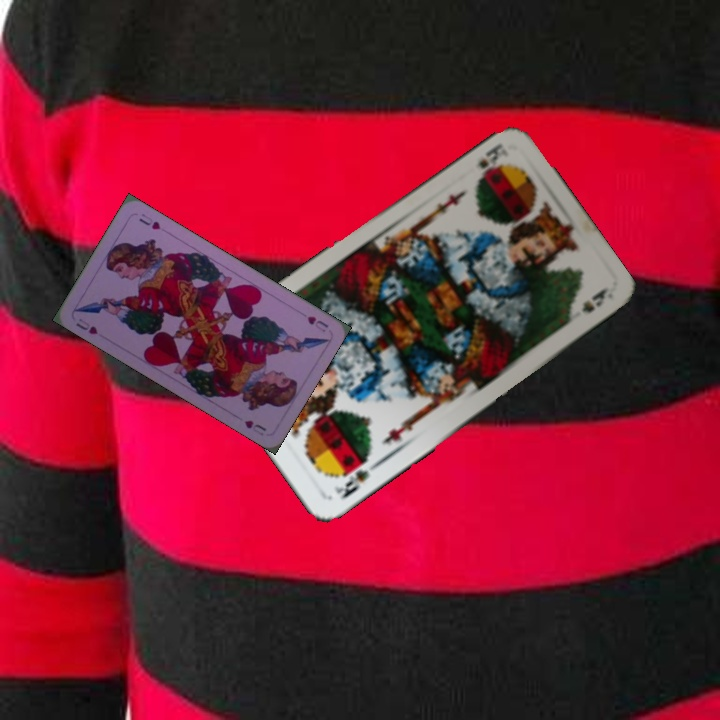HU: (71, 314, 101, 337), (303, 312, 331, 335)
SK: (330, 455, 379, 503), (471, 139, 511, 183)
